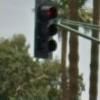Traffic light: (25, 0, 80, 67)
